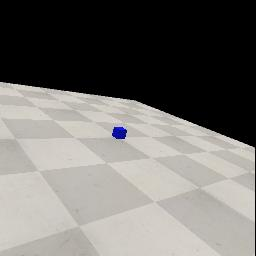box: (112, 127, 127, 139)
